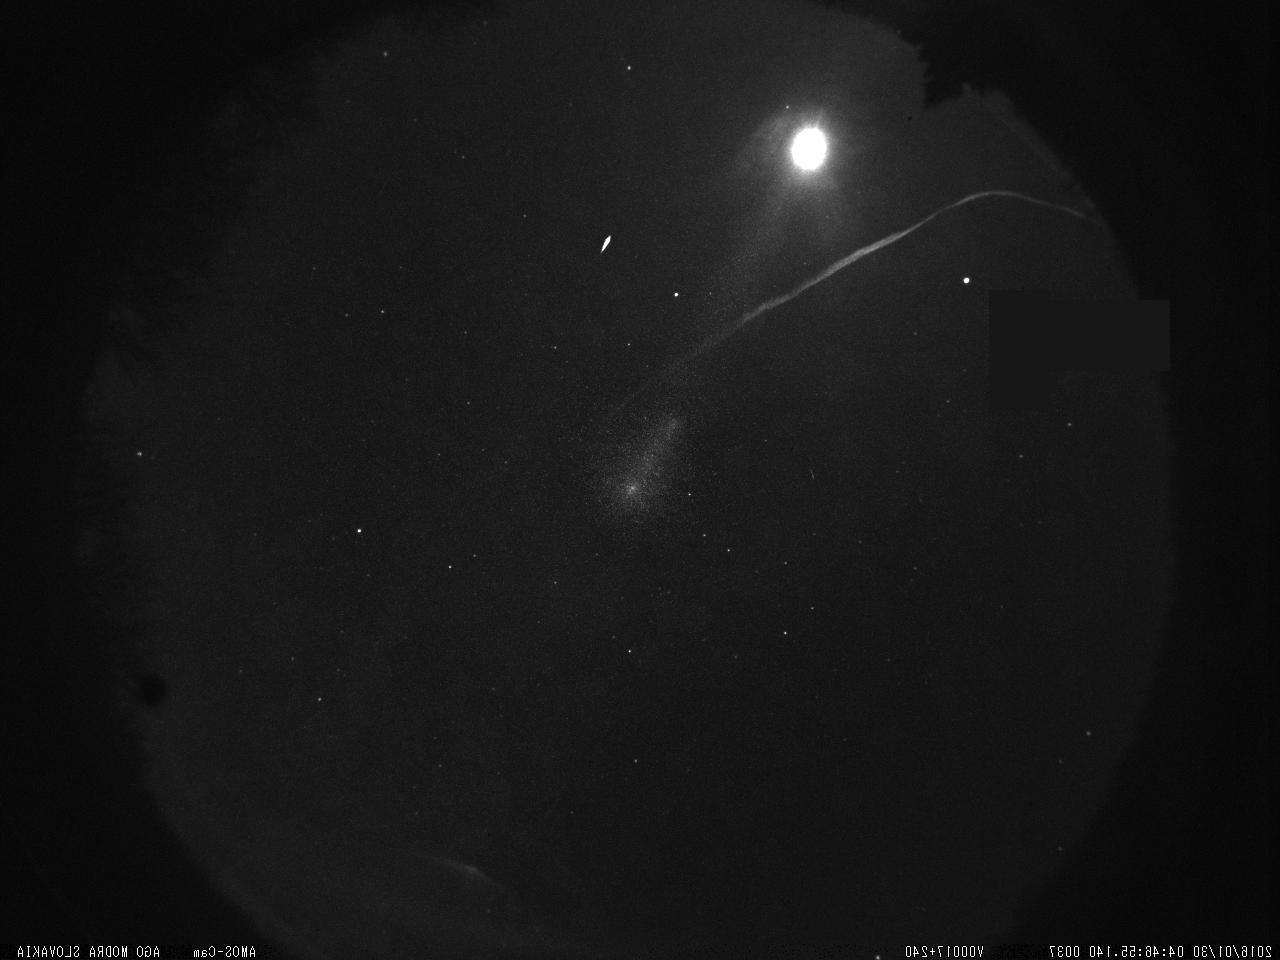meteor: (590, 228, 622, 266)
